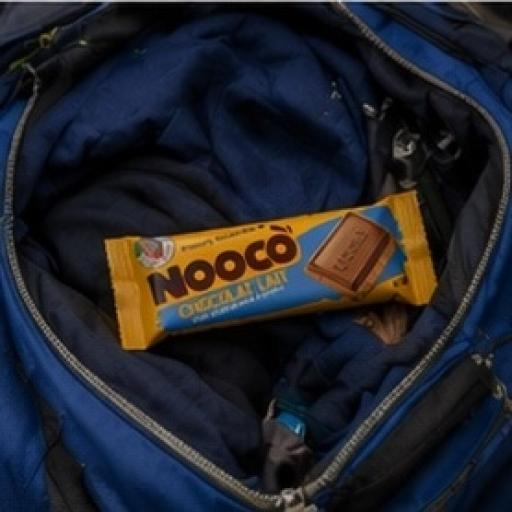nooco: (80, 161, 485, 418)
